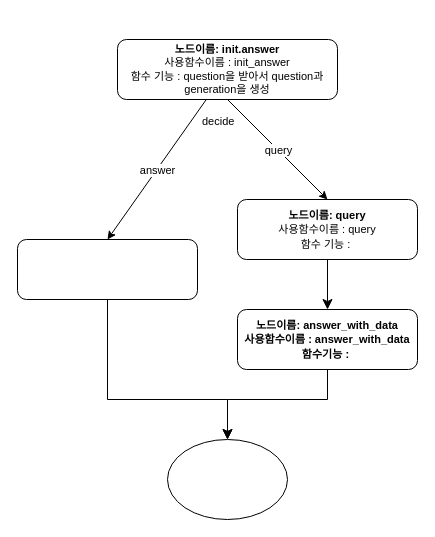
The diagram is 435 pixels wide and 537 high, and some of its shapes have lost their labels. Here are the shapes that lost their labels. From the top down, the centre of each, then its label:
At (x=107, y=269): "노드이름: answer 사용함수이름 : answer 함수 기능 :".
At (x=227, y=479): "End".
